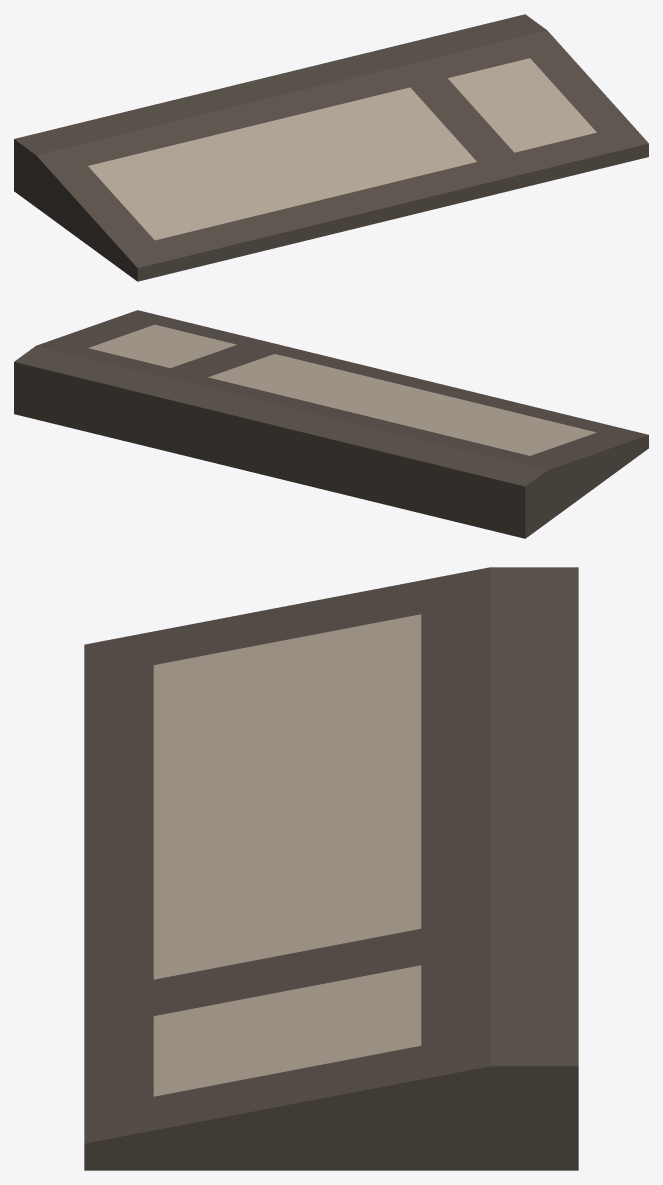
Rendered from kitComputerKeyboard.glb.
3 views of the same model, one above another, from view 1: azimuth 30°, elevation 25°; view 2: azimuth 150°, elevation 25°; view 3: azimuth 270°, elevation 25° (orthographic). The views are drawn at different scales.
Visible parts, largest first — view 1: kitComputerKeyboard_metalDark, kitComputerKeyboard_metalMedium; view 2: kitComputerKeyboard_metalDark, kitComputerKeyboard_metalMedium; view 3: kitComputerKeyboard_metalDark, kitComputerKeyboard_metalMedium.
Part boxes in pixels (<box>): kitComputerKeyboard_metalDark: <box>14,14,648,281</box>; kitComputerKeyboard_metalMedium: <box>88,58,596,240</box>; kitComputerKeyboard_metalDark: <box>14,310,648,538</box>; kitComputerKeyboard_metalMedium: <box>88,324,596,455</box>; kitComputerKeyboard_metalDark: <box>84,567,578,1170</box>; kitComputerKeyboard_metalMedium: <box>153,614,421,1096</box>.
Bounding box in the file's own units: 0.34 × 0.0332 × 0.1424.
